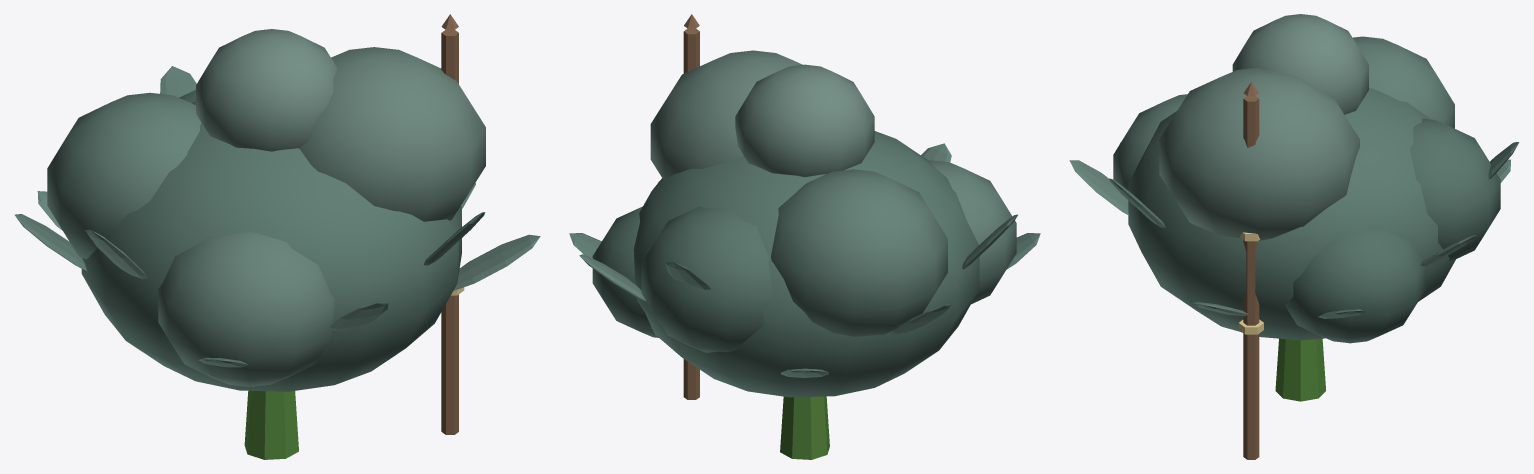
Rendered from Planta_GhostPepper.fbx.
The picture shows the model from 3 angles, left to right: view 1: azimuth 30°, elevation 25°; view 2: azimuth 150°, elevation 25°; view 3: azimuth 270°, elevation 25°; orthographic projection. The views are drawn at different scales.
Parts seen in each view (by area): view 1: Corpo_GhostPepper; view 2: Corpo_GhostPepper; view 3: Corpo_GhostPepper.
Part boxes in pixels (<box>): Corpo_GhostPepper: <box>14,14,540,459</box>; Corpo_GhostPepper: <box>569,14,1040,459</box>; Corpo_GhostPepper: <box>1069,14,1519,459</box>.
Bounding box in the file's own units: 2.86 × 2.61 × 2.84.
1 material, 1 textured.
